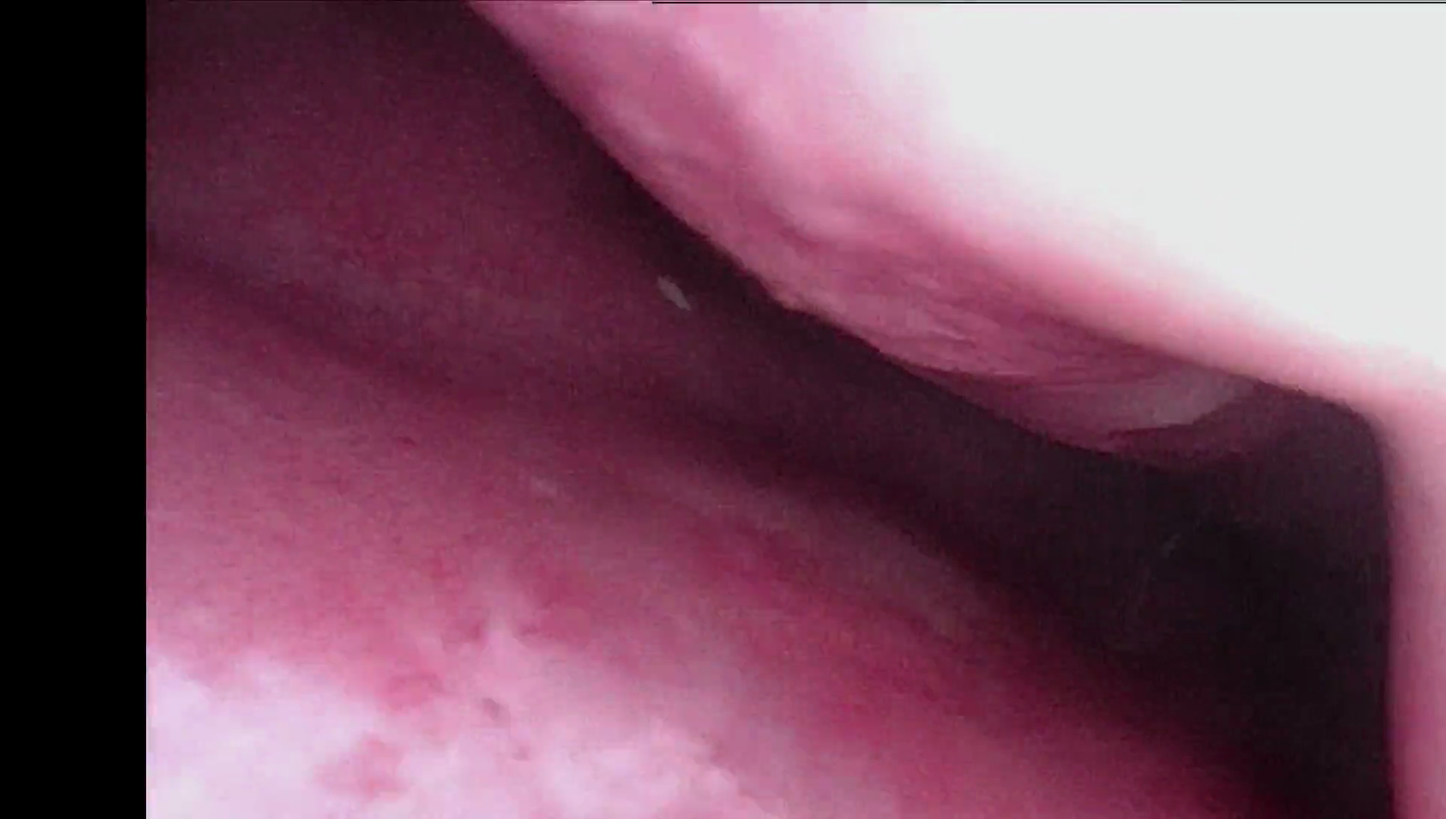close_wall: (845, 0, 1446, 345)
next: (1068, 424, 1443, 819)
